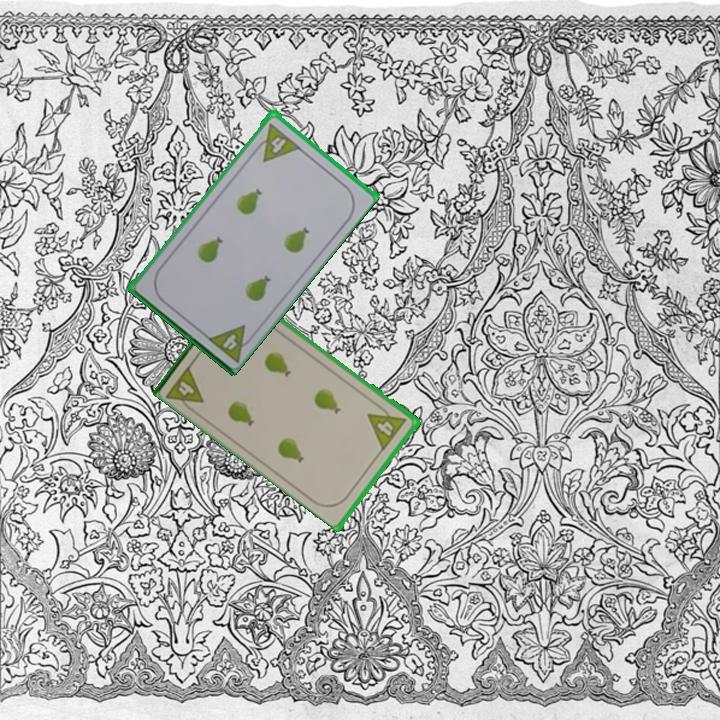4p: (163, 361, 207, 416), (365, 400, 410, 453), (262, 130, 301, 164), (219, 330, 240, 353)
